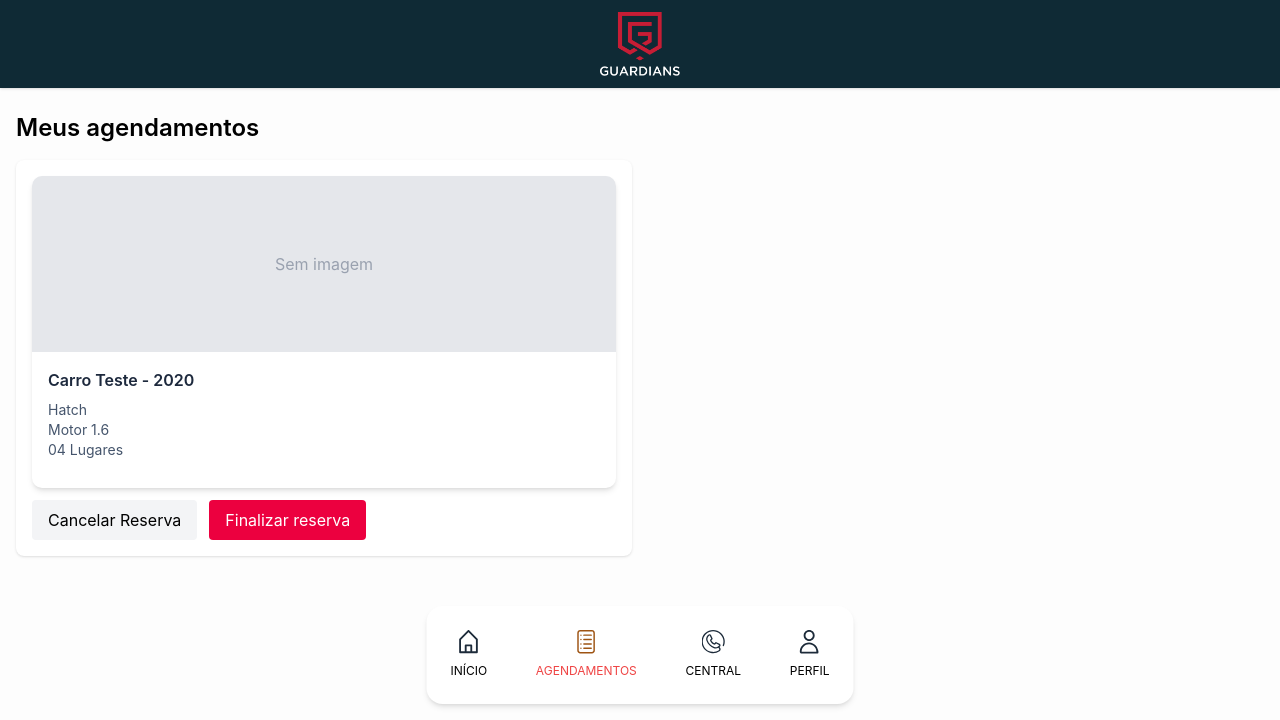
Scenario: Fluxos de usuário - E2E › Finalizar reserva em Agendamentos
clicar em Finalizar reserva
Click the button "Finalizar reserva" at (288,520), box [209,500,366,540]
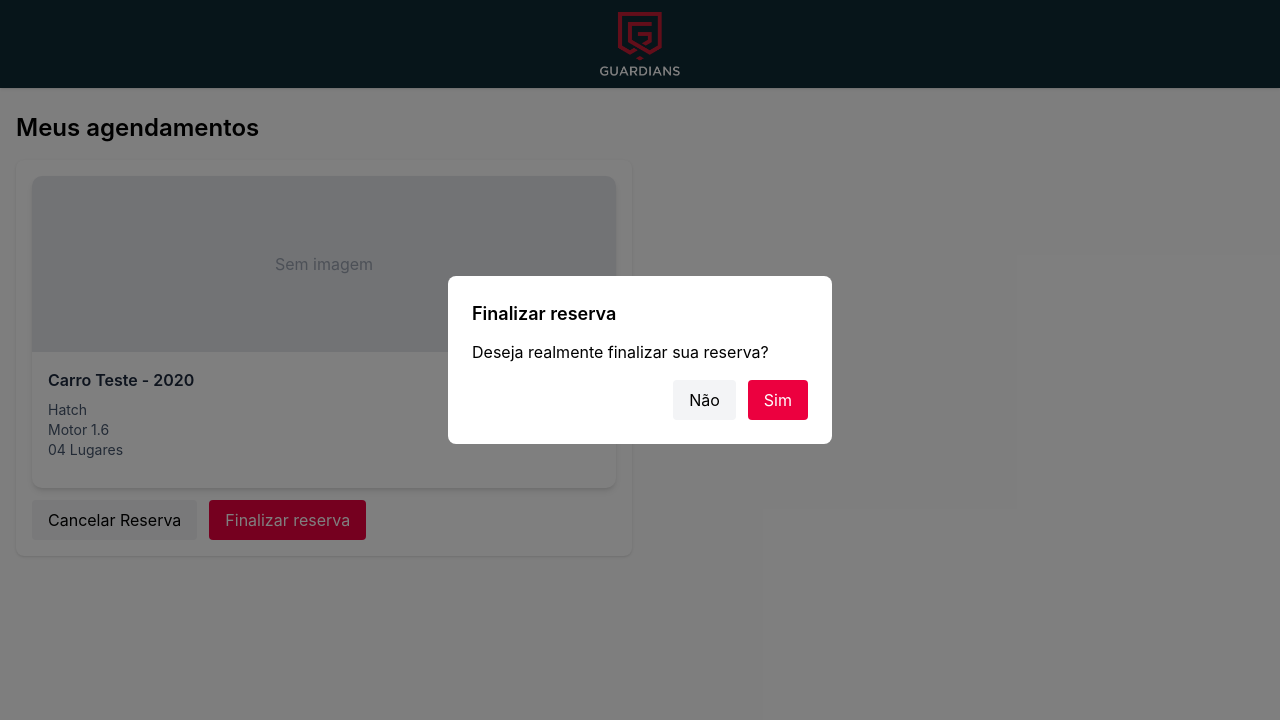
Click the button "Sim" at (778,400), box [748,380,808,420]
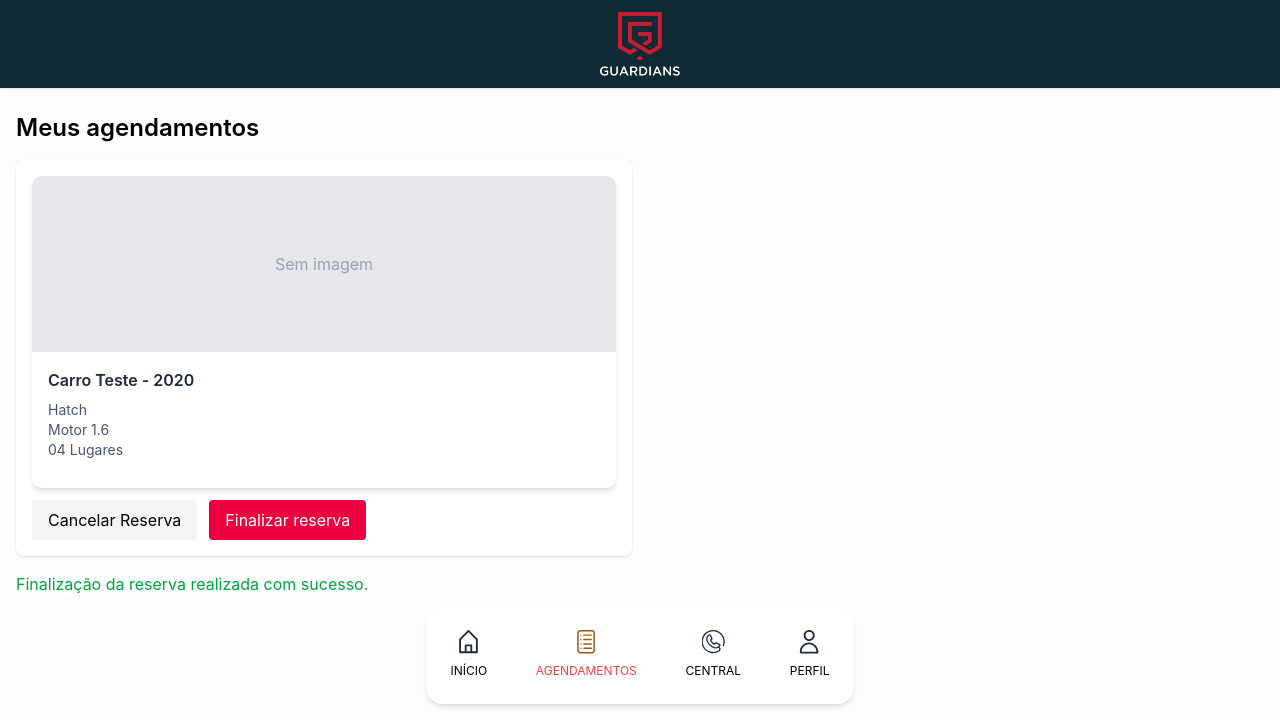
Result: the text "Finalização da reserva realizada com sucesso." is shown at [16,574,368,594]
